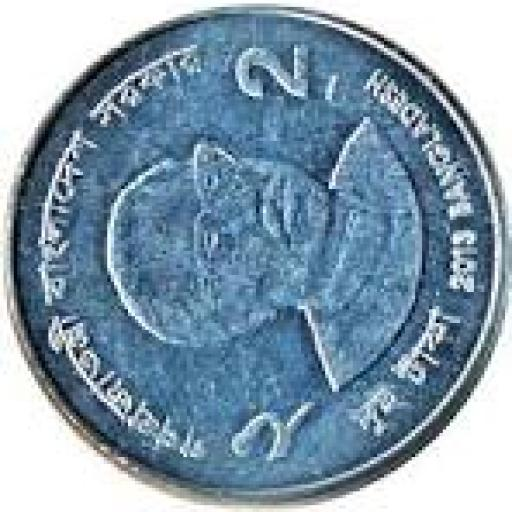2taka: (7, 7, 505, 502)
